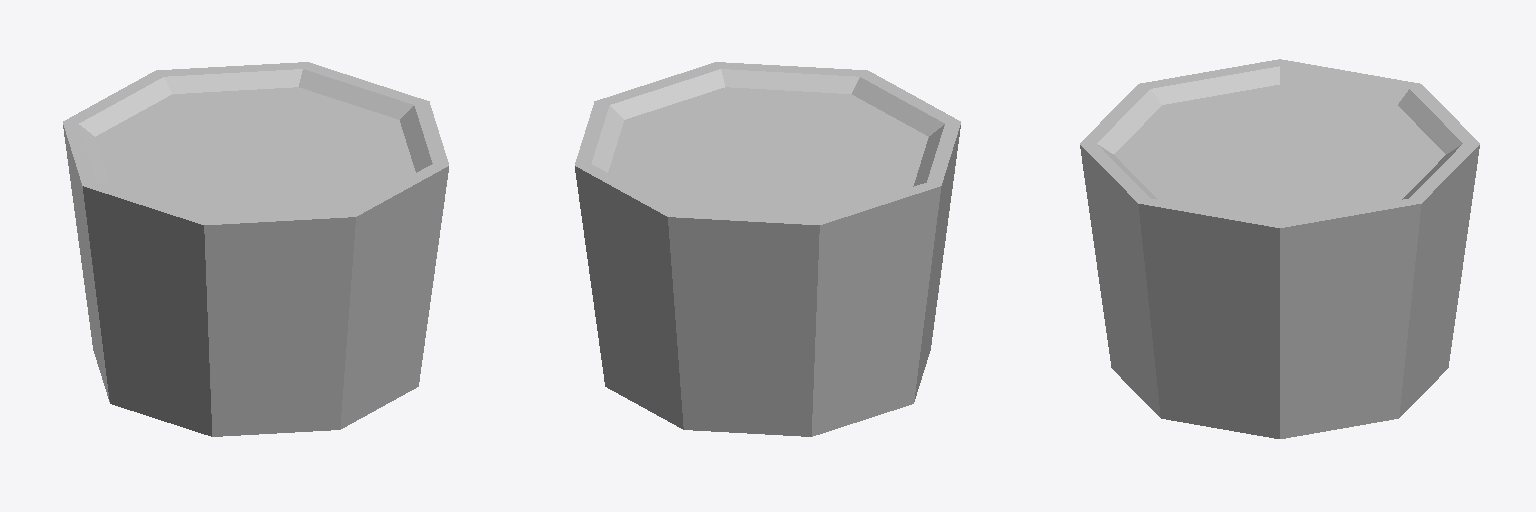
The model's file is large_plantable_barrel_planter.obj.
3 renders of one model, left to right at view 1: azimuth 30°, elevation 25°; view 2: azimuth 150°, elevation 25°; view 3: azimuth 270°, elevation 25°, orthographic.
Visible parts, largest first — view 1: big_plantable_planter; view 2: big_plantable_planter; view 3: big_plantable_planter.
Boxes of the visible parts, x1=… form: big_plantable_planter: x1=63, y1=62, x2=448, y2=436; big_plantable_planter: x1=575, y1=62, x2=960, y2=436; big_plantable_planter: x1=1080, y1=59, x2=1479, y2=438.
Bounding box in the file's own units: 1.7 × 1.05 × 1.7.